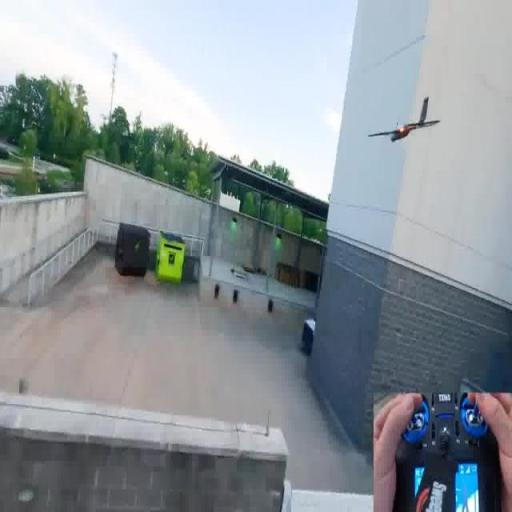uav: (366, 78, 442, 165)
